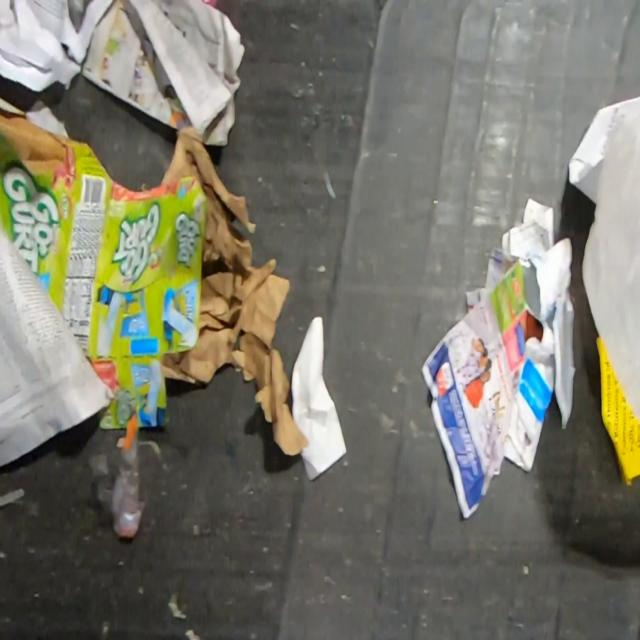cardboard: (0, 96, 209, 430)
soft_plastic: (580, 107, 640, 420), (107, 407, 147, 541)
